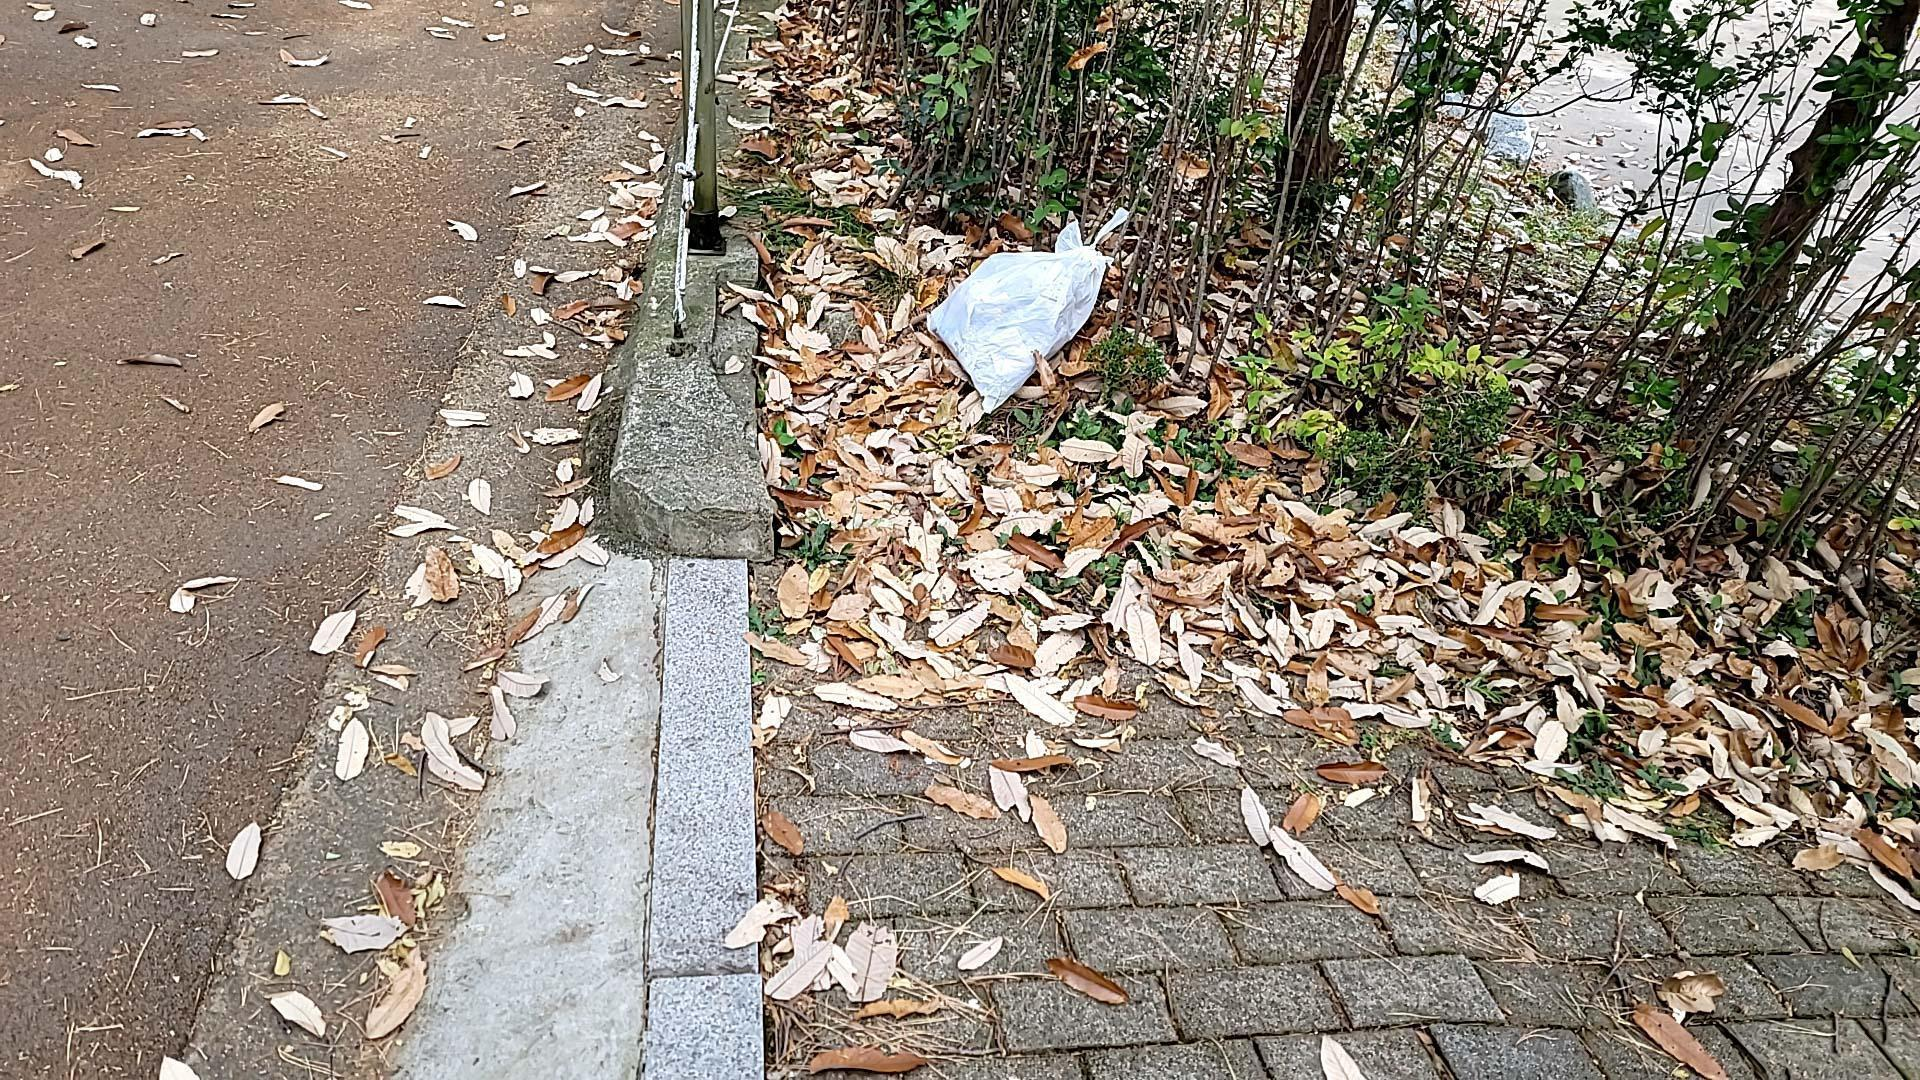white_bag: (909, 183, 1140, 420)
